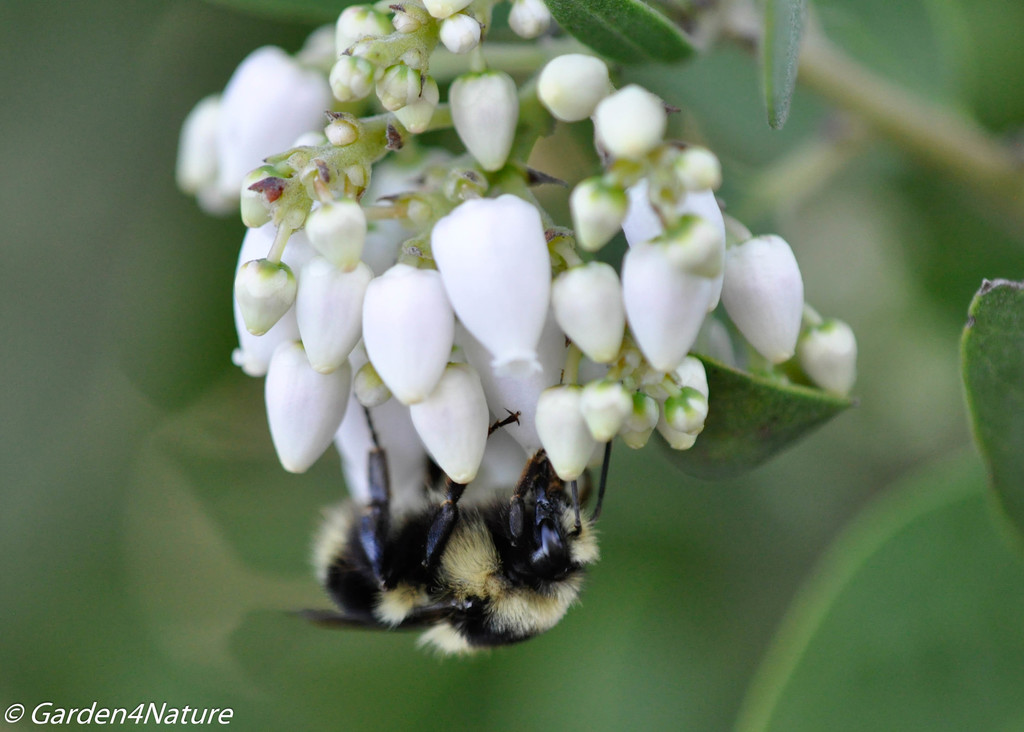bumblebee: (288, 401, 617, 659)
